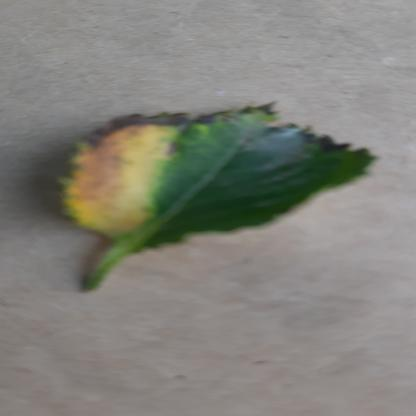black-spot: (50, 100, 388, 250)
